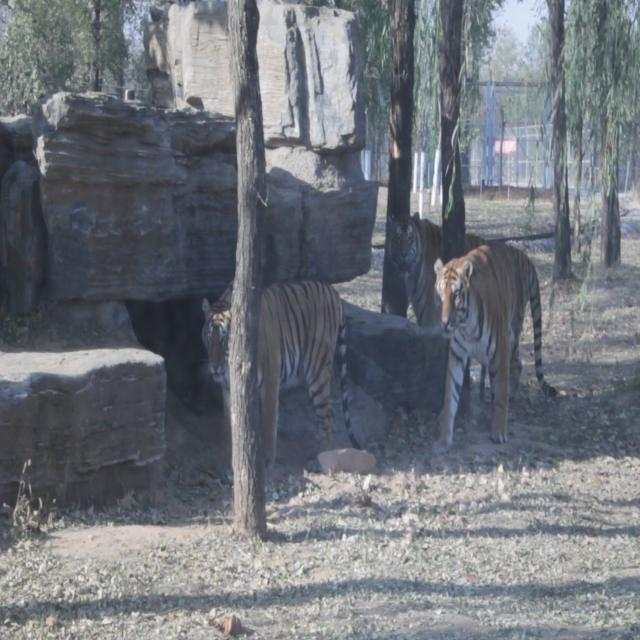Tiger: (194, 254, 366, 461), (393, 212, 550, 388)
